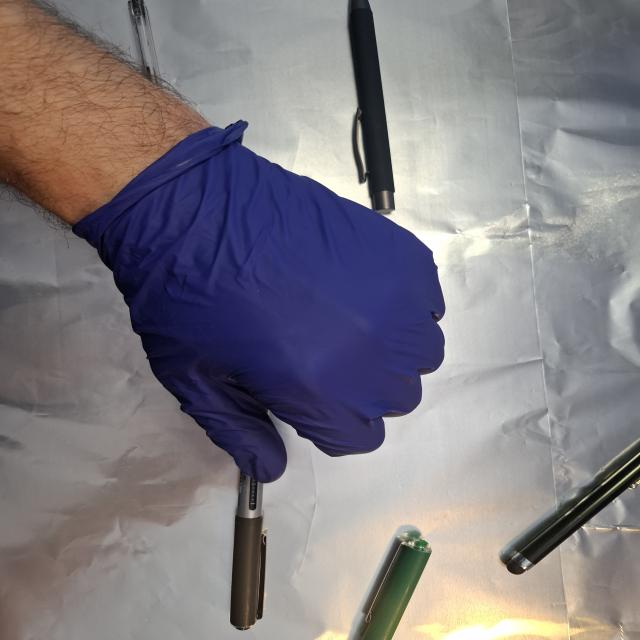glove_on: (85, 123, 451, 485)
